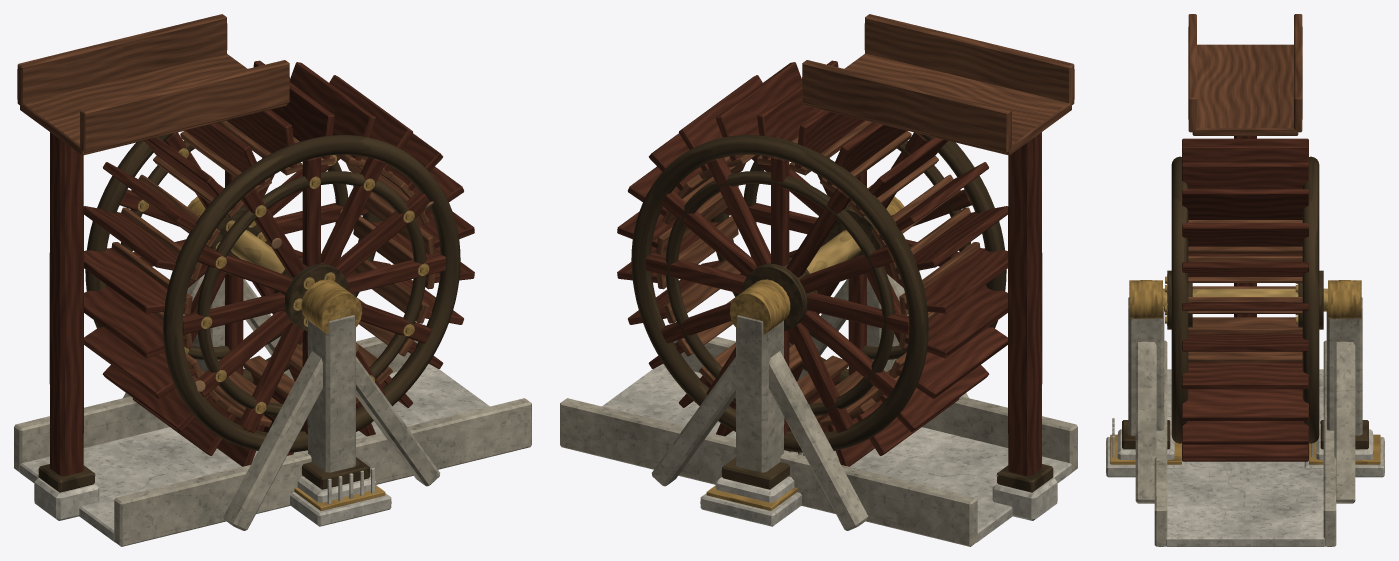
3 views of the same model, side by side, from view 1: azimuth 30°, elevation 25°; view 2: azimuth 150°, elevation 25°; view 3: azimuth 270°, elevation 25° (orthographic). The views are drawn at different scales.
Visible parts, largest first — view 1: quarter-sawn-timber (×2), honed-limestone, exposed-end-grain (×2), dark-patinated-bronze-fittings (×2), carved-limestone-mouldings, aged-bronze (×2), polished-bronze-bearing (×2); view 2: quarter-sawn-timber (×2), honed-limestone, exposed-end-grain (×2), dark-patinated-bronze-fittings (×2), carved-limestone-mouldings, aged-bronze, polished-bronze-bearing; view 3: quarter-sawn-timber, exposed-end-grain (×2), carved-limestone-mouldings, honed-limestone, dark-patinated-bronze-fittings (×2), aged-bronze, polished-bronze-bearing.
Part boxes in pixels (x1,y1,x2,y2): quarter-sawn-timber (×2): (49,60,474,476); honed-limestone: (14,274,531,546); exposed-end-grain (×2): (17,14,435,427); dark-patinated-bronze-fittings (×2): (38,133,460,492); carved-limestone-mouldings: (20,364,489,542); aged-bronze (×2): (140,150,428,510); polished-bronze-bearing (×2): (137,148,429,413); quarter-sawn-timber (×2): (617,60,1042,476); honed-limestone: (560,274,1077,546); exposed-end-grain (×2): (656,14,1074,427); dark-patinated-bronze-fittings (×2): (631,133,1053,492); carved-limestone-mouldings: (602,364,1071,542); aged-bronze: (706,196,904,510); polished-bronze-bearing: (739,230,860,316); quarter-sawn-timber: (1182,138,1308,461); exposed-end-grain (×2): (1188,14,1302,362); carved-limestone-mouldings: (1106,369,1384,546); honed-limestone: (1128,297,1362,546); dark-patinated-bronze-fittings (×2): (1122,156,1368,449); aged-bronze: (1110,280,1380,464); polished-bronze-bearing: (1163,288,1327,311).
Bounding box in the file's own units: 2 × 1.89 × 1.32.
9 materials, 7 textured.
